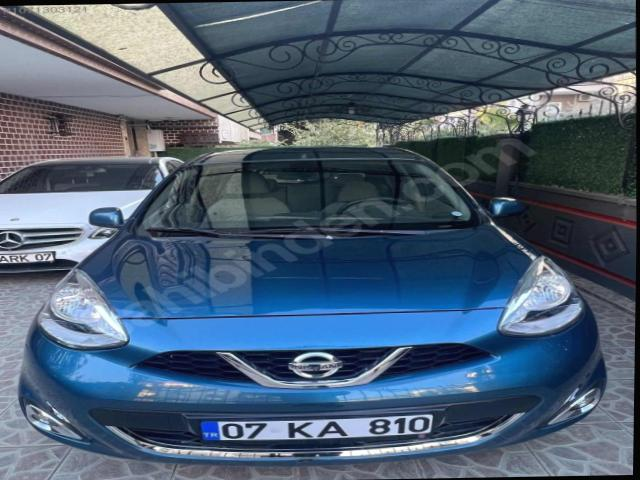plaka: (200, 413, 435, 440)
